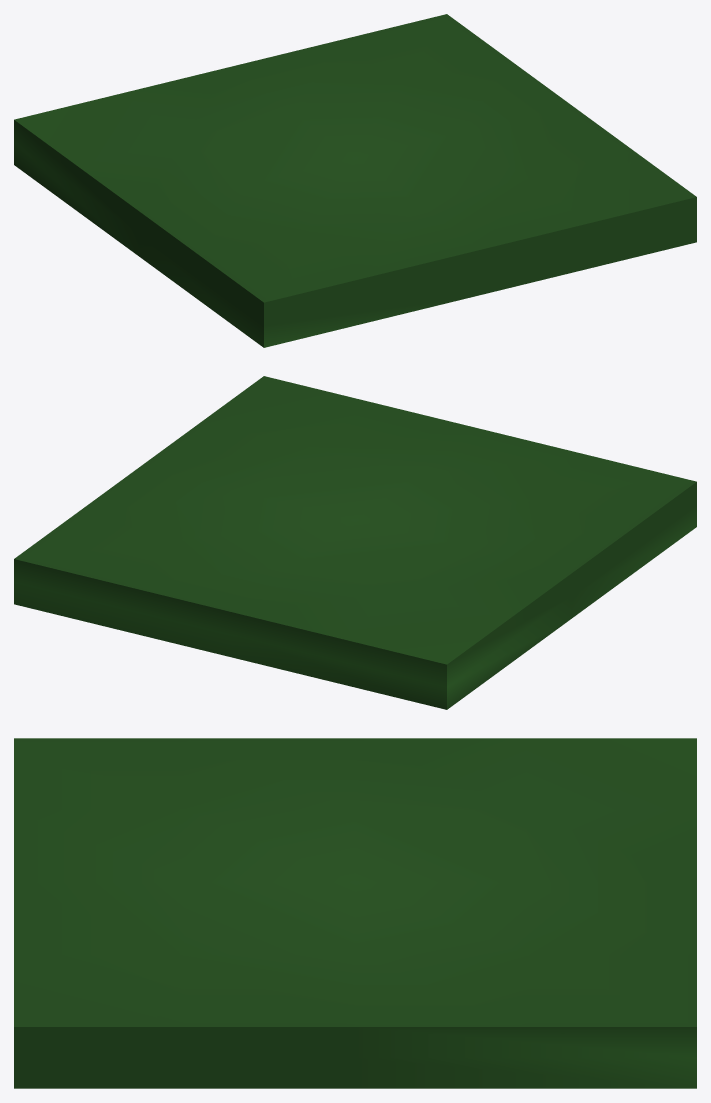
Rendered from GrassBlock.fbx.
The picture shows the model from 3 angles, top to bottom: view 1: azimuth 30°, elevation 25°; view 2: azimuth 150°, elevation 25°; view 3: azimuth 270°, elevation 25°; orthographic projection. The views are drawn at different scales.
Visible parts, largest first — view 1: Grass_Floor; view 2: Grass_Floor; view 3: Grass_Floor.
Part boxes in pixels (x1,y1,x2,y2): Grass_Floor: [14, 14, 696, 347]; Grass_Floor: [14, 376, 696, 709]; Grass_Floor: [14, 738, 696, 1088].
Bounding box in the file's own units: 2000 × 200 × 2000.
